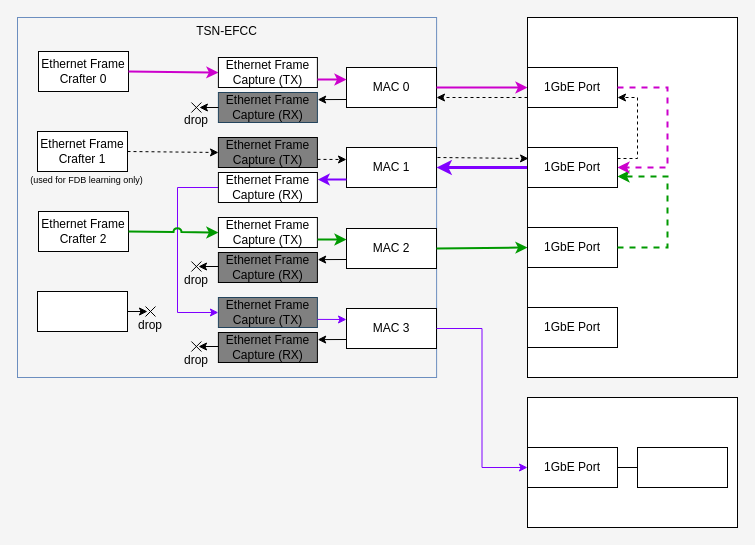
Some shapes in this 755 by 545 pixel diagram are drawn without their labels. The shapes that lost their labels are listed below. From the top down, each one's box as (x1, y1, x2, y2) in pixels, then its label:
(526, 16, 738, 378): Network Switch
(36, 290, 128, 332): Ethernet Frame Crafter 3
(526, 396, 738, 528): Host PC (optional)
(636, 446, 728, 488): WireShark
